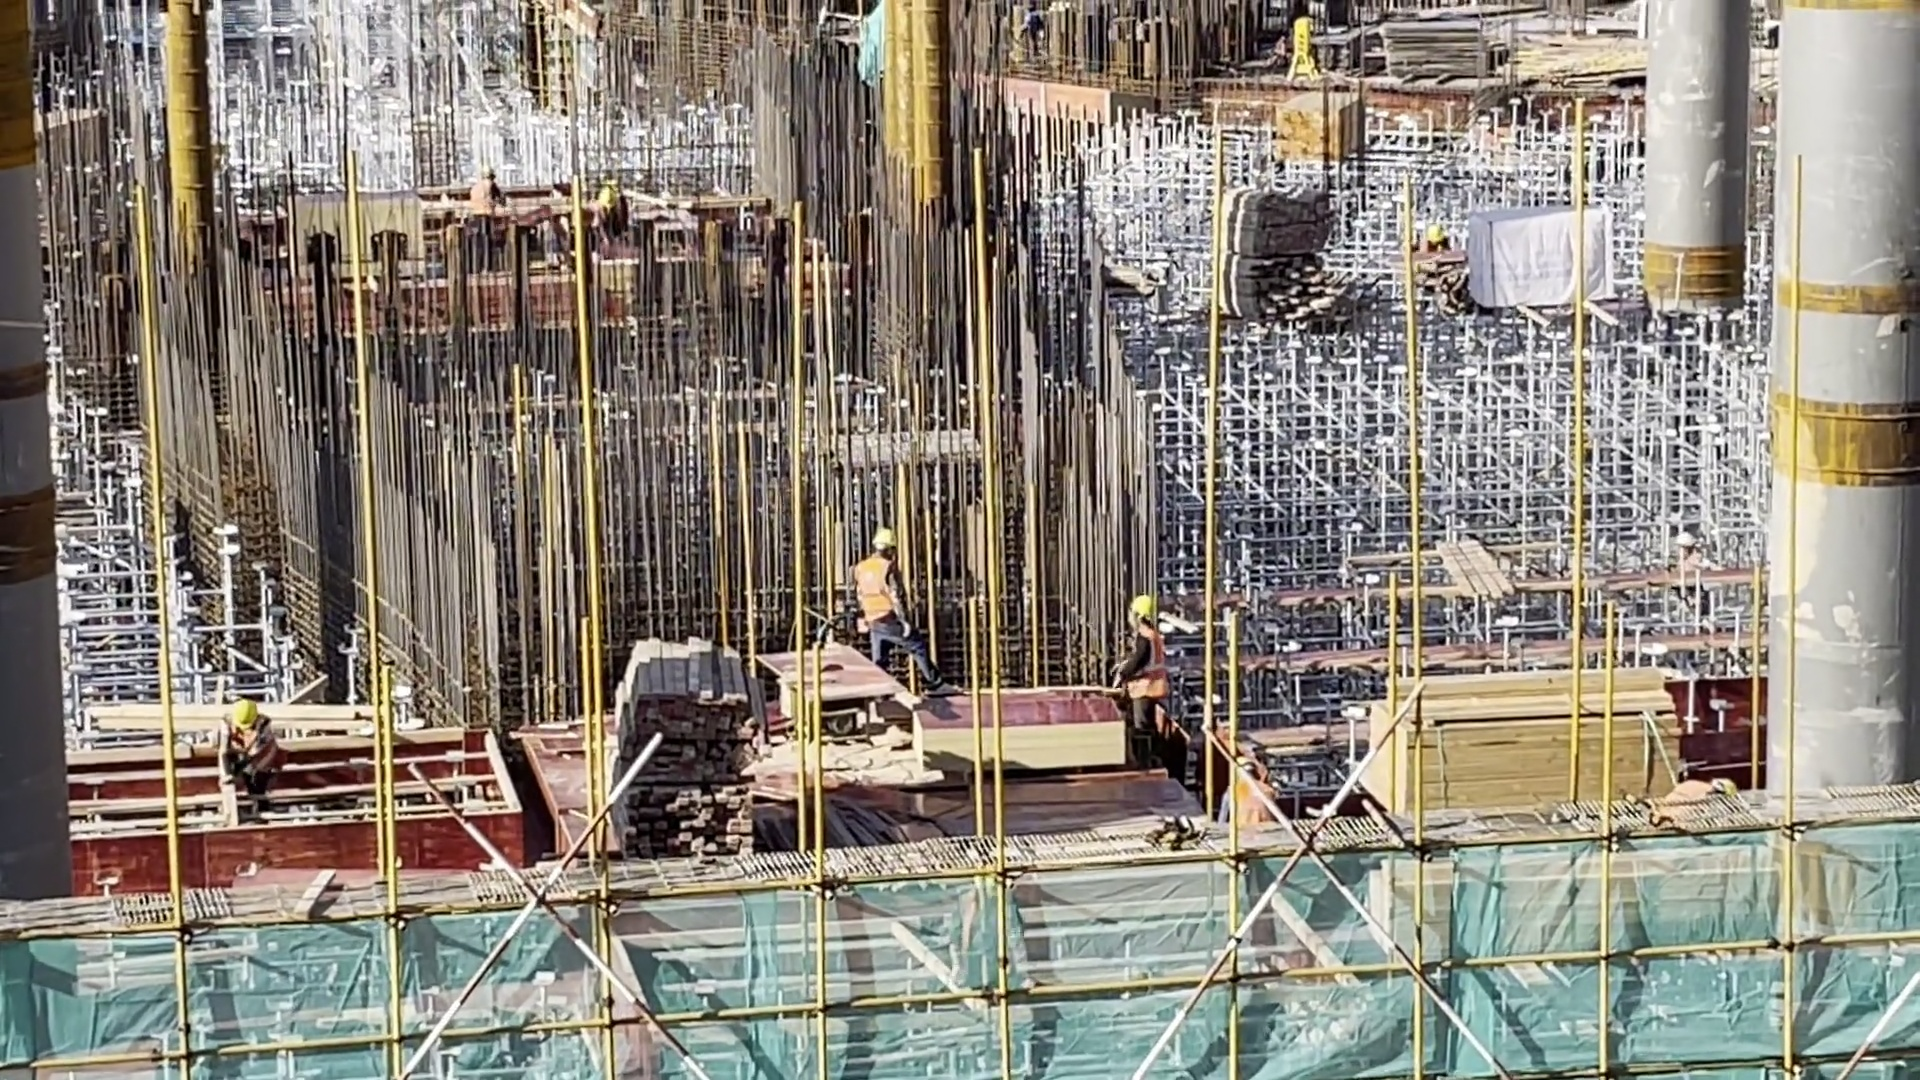helmet: (228, 698, 264, 733), (1126, 596, 1162, 626), (871, 526, 898, 550), (1425, 222, 1447, 244)
person: (840, 526, 947, 693), (1112, 597, 1186, 771), (215, 701, 286, 793), (1414, 223, 1455, 254)
vest: (845, 554, 903, 620), (1128, 628, 1171, 702)
